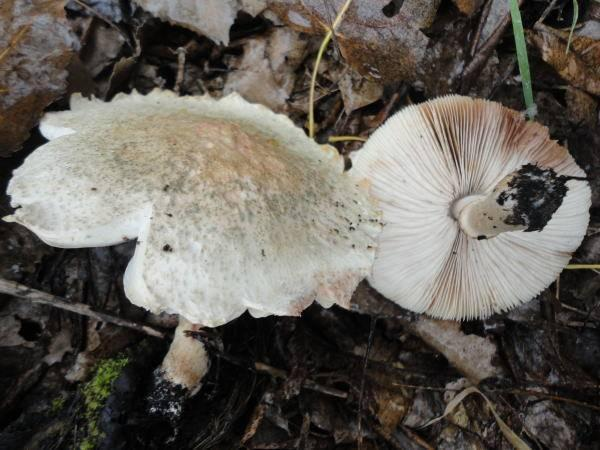Non-edible Mushroom: (1, 86, 383, 414), (346, 92, 592, 321)
